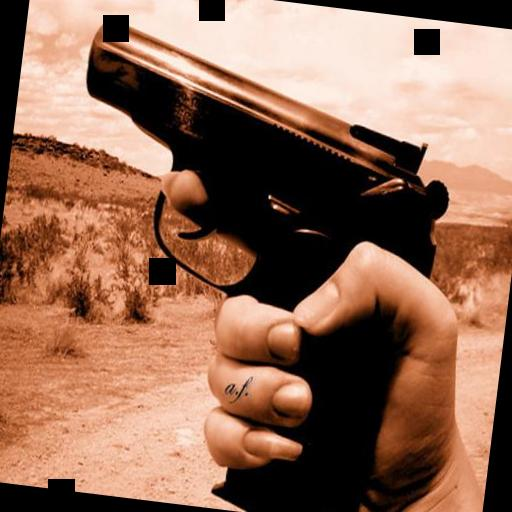Handgun: (30, 3, 465, 512)
